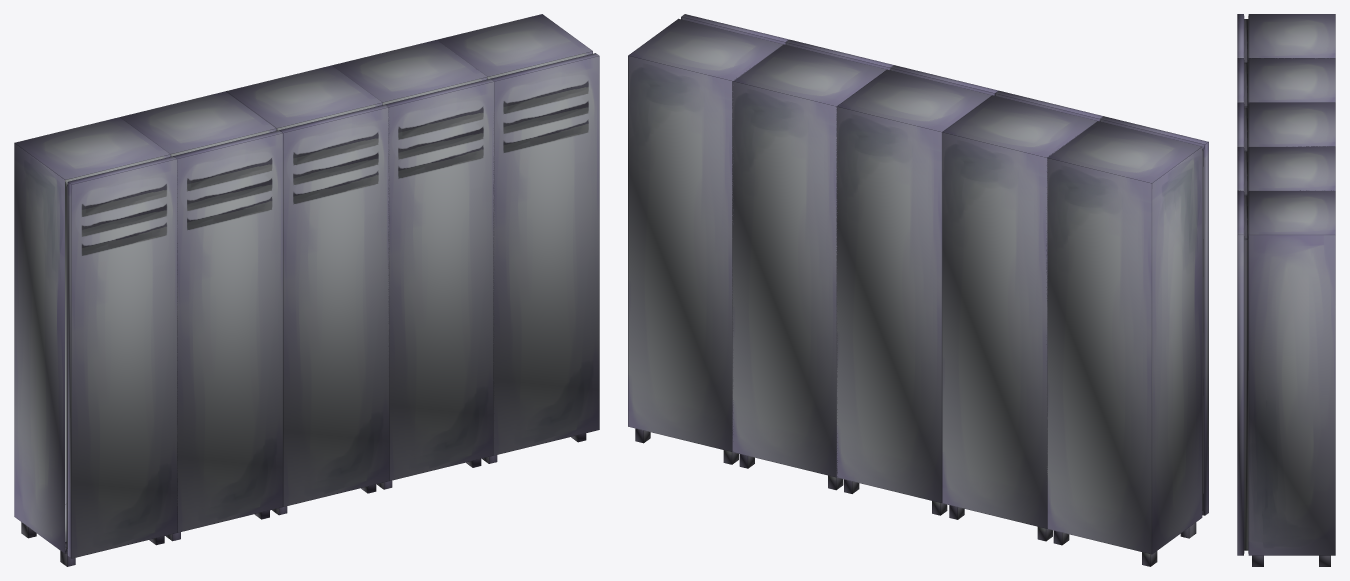
File: Lockers5.fbx
3 renders of one model, left to right at view 1: azimuth 30°, elevation 25°; view 2: azimuth 150°, elevation 25°; view 3: azimuth 270°, elevation 25°, orthographic. The views are drawn at different scales.
Visible parts, largest first — view 1: Locker.003, Locker.001, Locker.005, Locker.002, Locker.004; view 2: Locker.003, Locker.001, Locker.002, Locker.005, Locker.004; view 3: Locker.005, Locker.001, Locker.002, Locker.004, Locker.003.
Boxes of the visible parts, x1,y1,x2,y2 form: Locker.003: [14, 117, 177, 566]; Locker.001: [226, 65, 389, 515]; Locker.005: [437, 14, 599, 463]; Locker.002: [120, 91, 282, 541]; Locker.004: [332, 40, 494, 489]; Locker.003: [1046, 116, 1208, 566]; Locker.001: [836, 65, 998, 515]; Locker.002: [942, 90, 1102, 541]; Locker.005: [628, 14, 789, 464]; Locker.004: [732, 39, 894, 490]; Locker.005: [1237, 190, 1335, 566]; Locker.001: [1237, 102, 1335, 375]; Locker.002: [1237, 58, 1335, 107]; Locker.004: [1237, 146, 1335, 419]; Locker.003: [1237, 14, 1335, 62].
Bounding box in the file's own units: 655 × 461 × 123.
